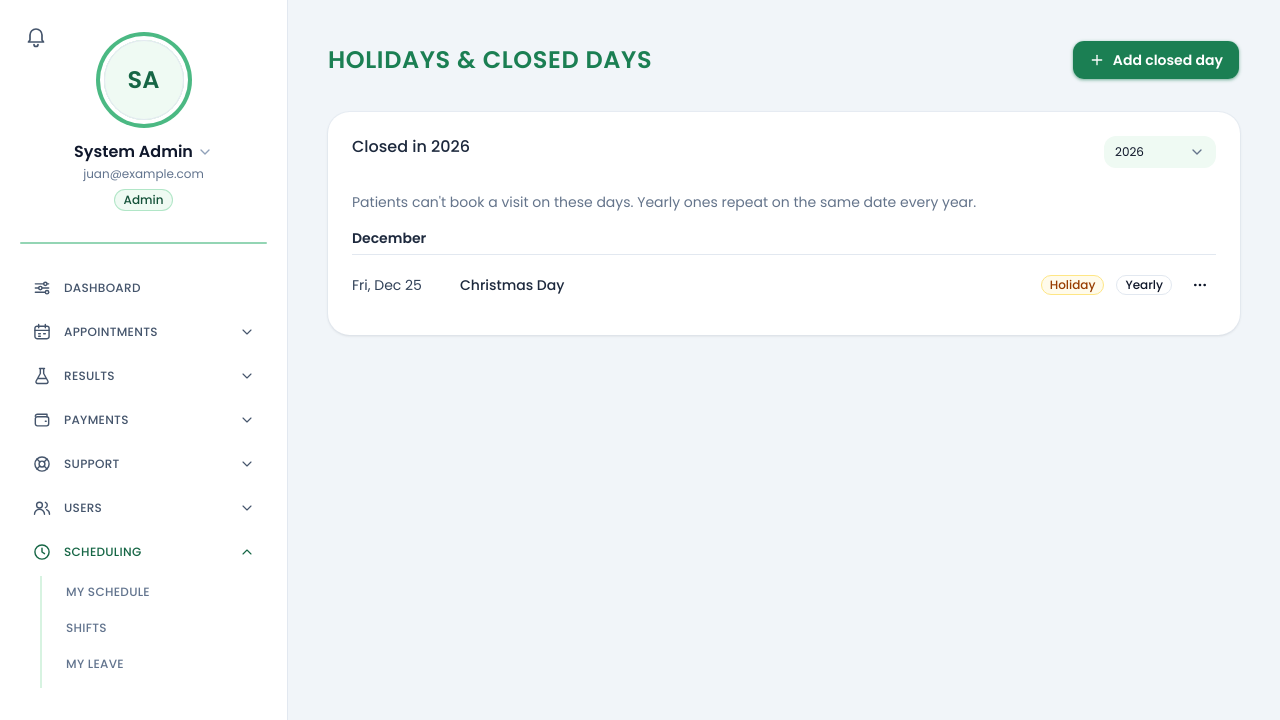
HolidaysPage › shows an already-closed date under the date field
Step 1. Click the button named "Actions for Christmas Day" → click(1200, 285), box x1=1184 y1=269 x2=1216 y2=301
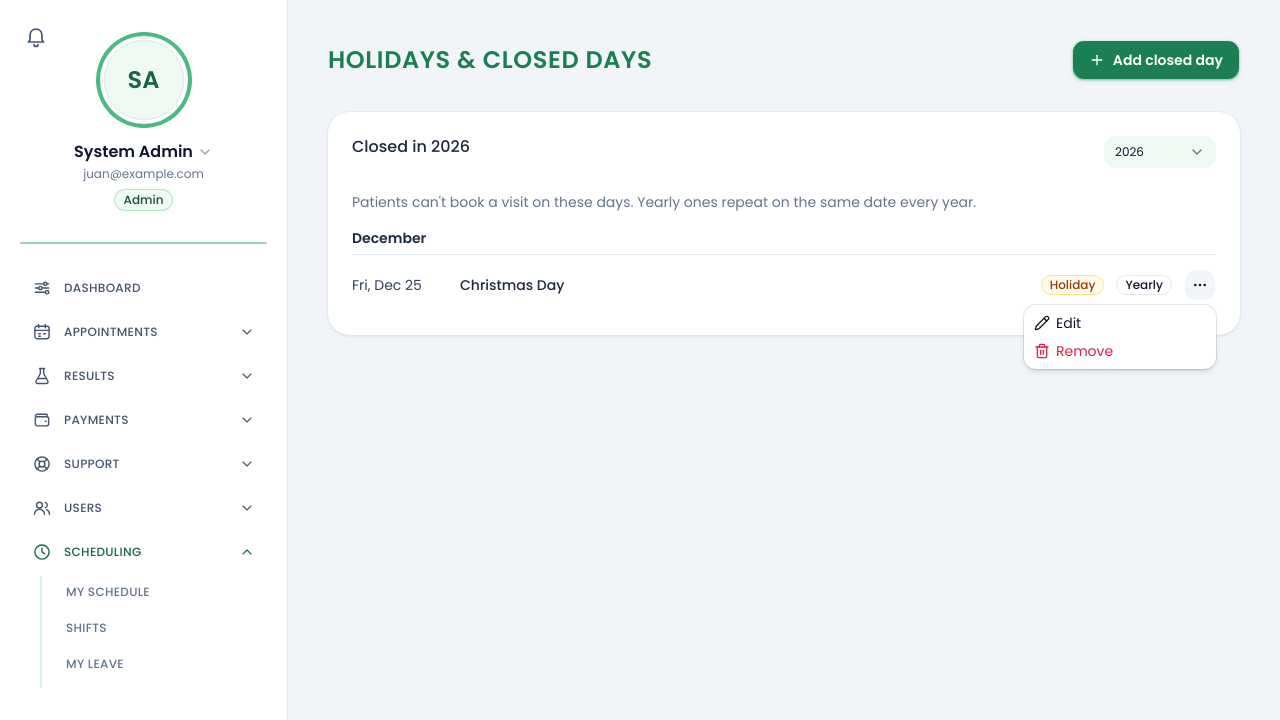
Step 2. Click the menu item "Edit" → click(1058, 323), box x1=1034 y1=313 x2=1081 y2=333
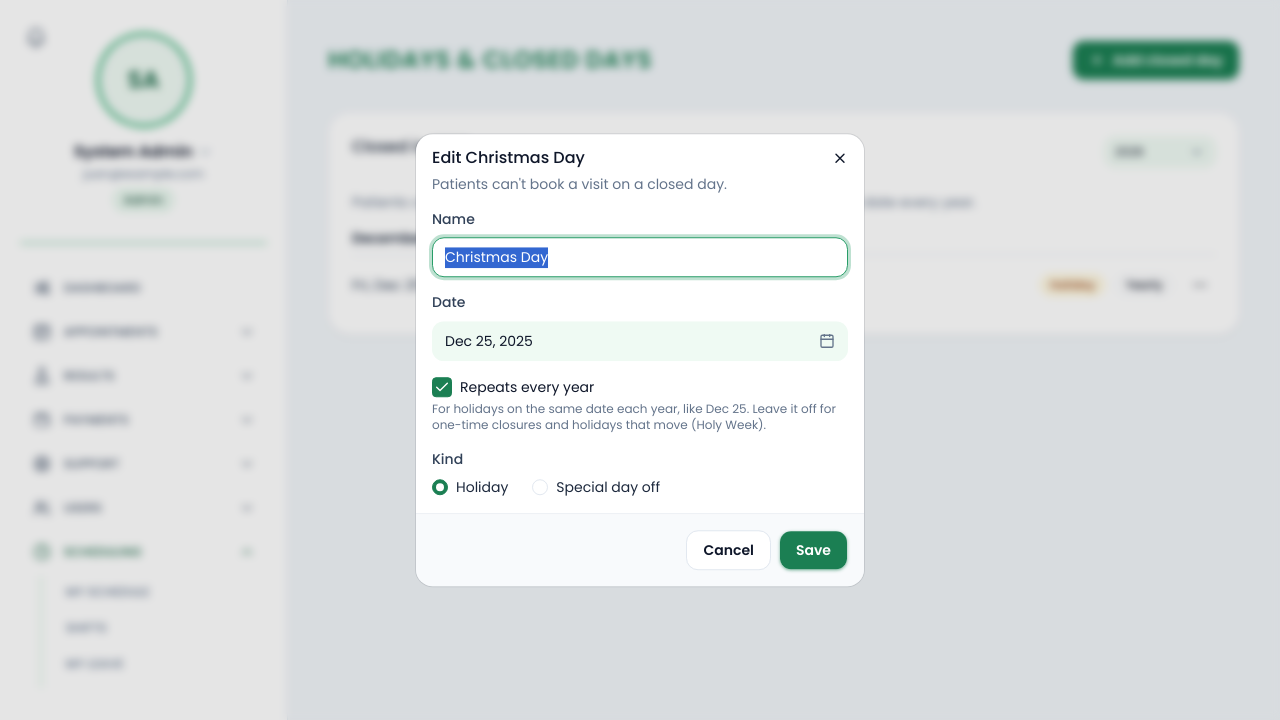
Step 3. Click the button "Save" → click(814, 550), box x1=779 y1=530 x2=848 y2=570
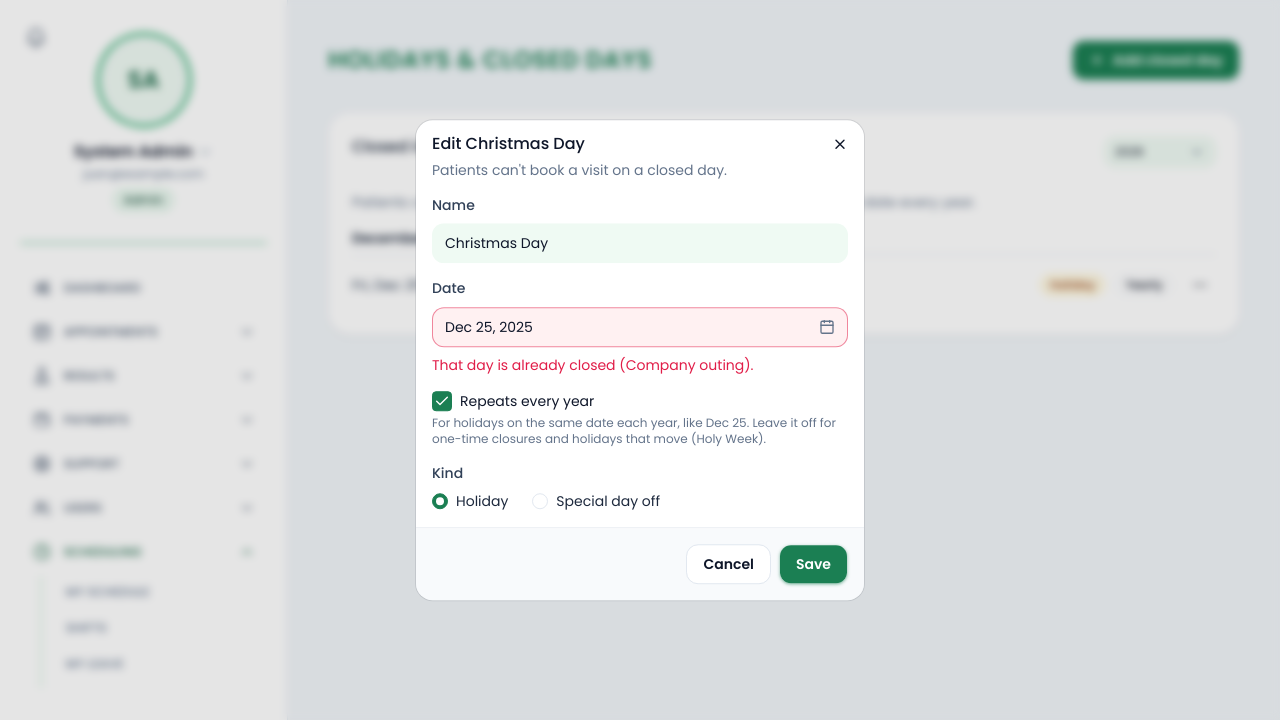
Expected: the text "That day is already closed (Company outing)." is shown, x1=432 y1=355 x2=754 y2=375
